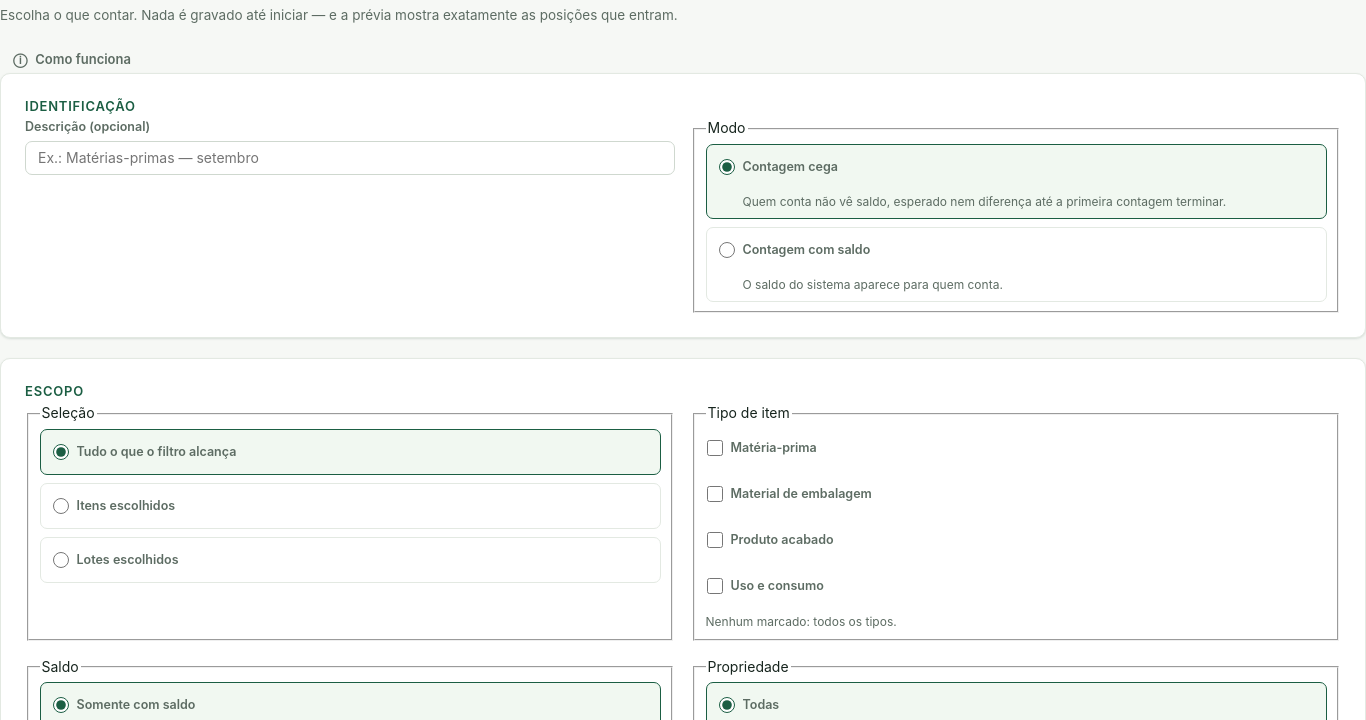
it: novo inventário — prévia › só a última resposta pedida vale: a atrasada não sobrescreve
Step 1. Click the checkbox labelled "Material de embalagem" → coordinates (714, 494), box x1=706 y1=486 x2=722 y2=502
(page scrolled)
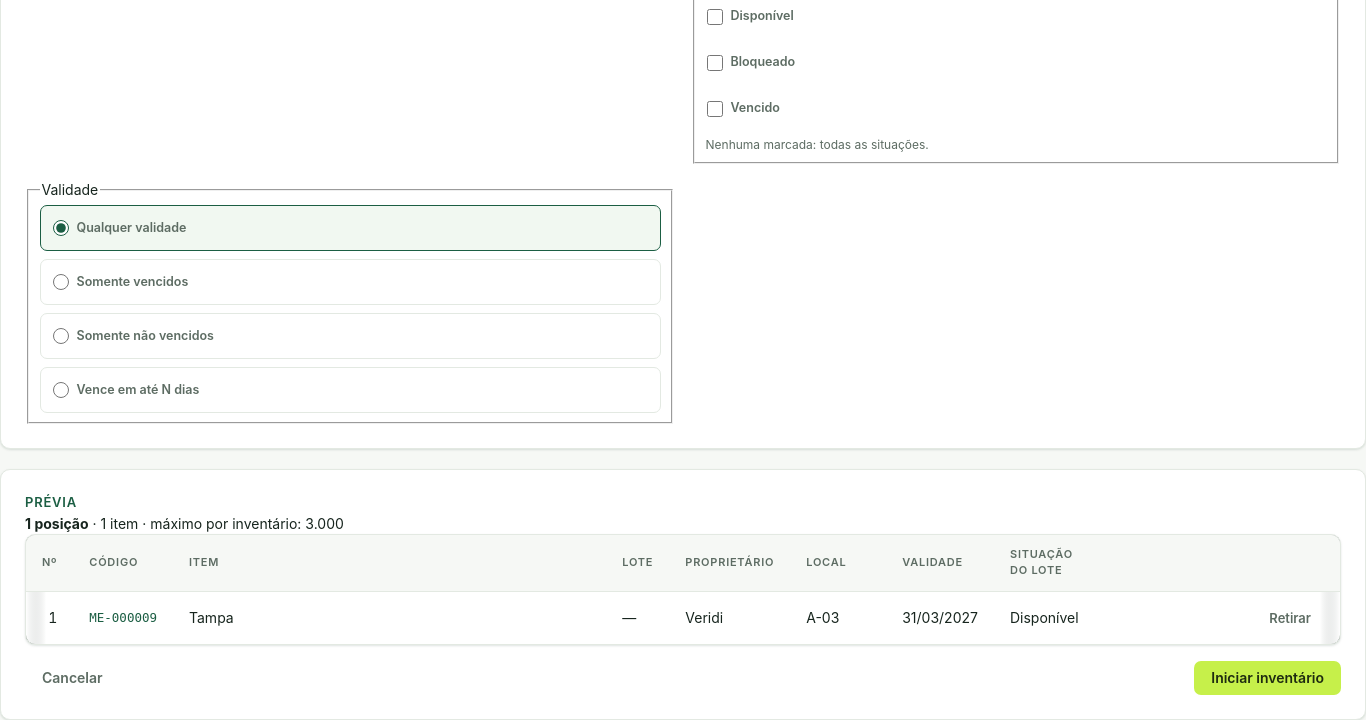
Result: the text "ME-000009" is shown at x1=73 y1=592 x2=173 y2=644
